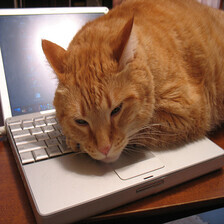laptop: (1, 3, 221, 219)
